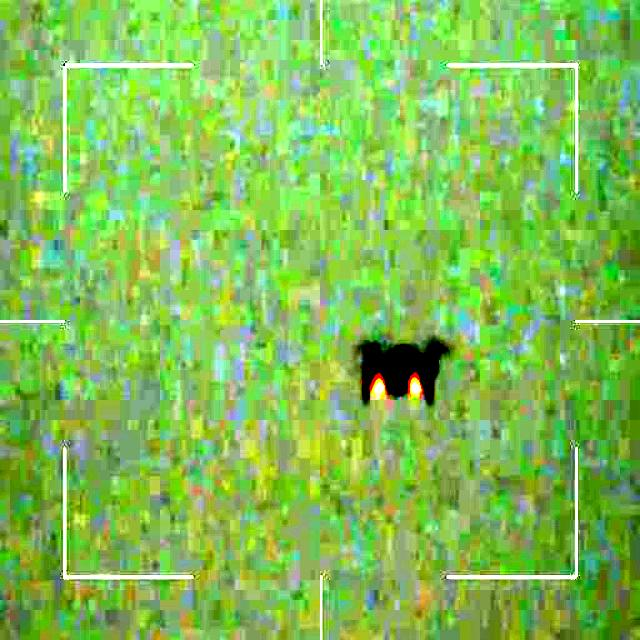bird: (358, 339, 450, 405)
